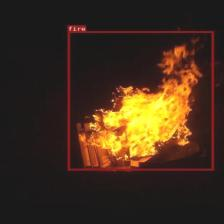fire: (67, 31, 214, 170)
